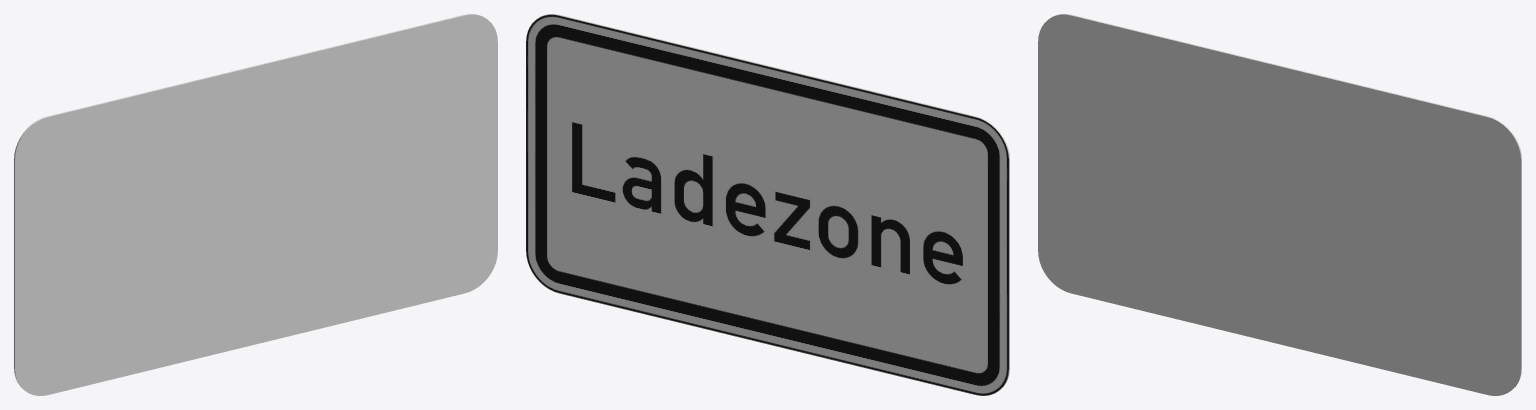
The picture shows the model from 3 angles, left to right: view 1: azimuth 30°, elevation 25°; view 2: azimuth 150°, elevation 25°; view 3: azimuth 330°, elevation 25°; orthographic projection.
Visible parts, largest first — view 1: Plane; view 2: Plane; view 3: Plane.
Part boxes in pixels (x1,y1,x2,y2): Plane: [14, 14, 497, 395]; Plane: [526, 14, 1009, 395]; Plane: [1038, 14, 1521, 395].
Size of the model in its own units: 0.6 by 0.33 by 0.002.
2 materials, 1 textured.
